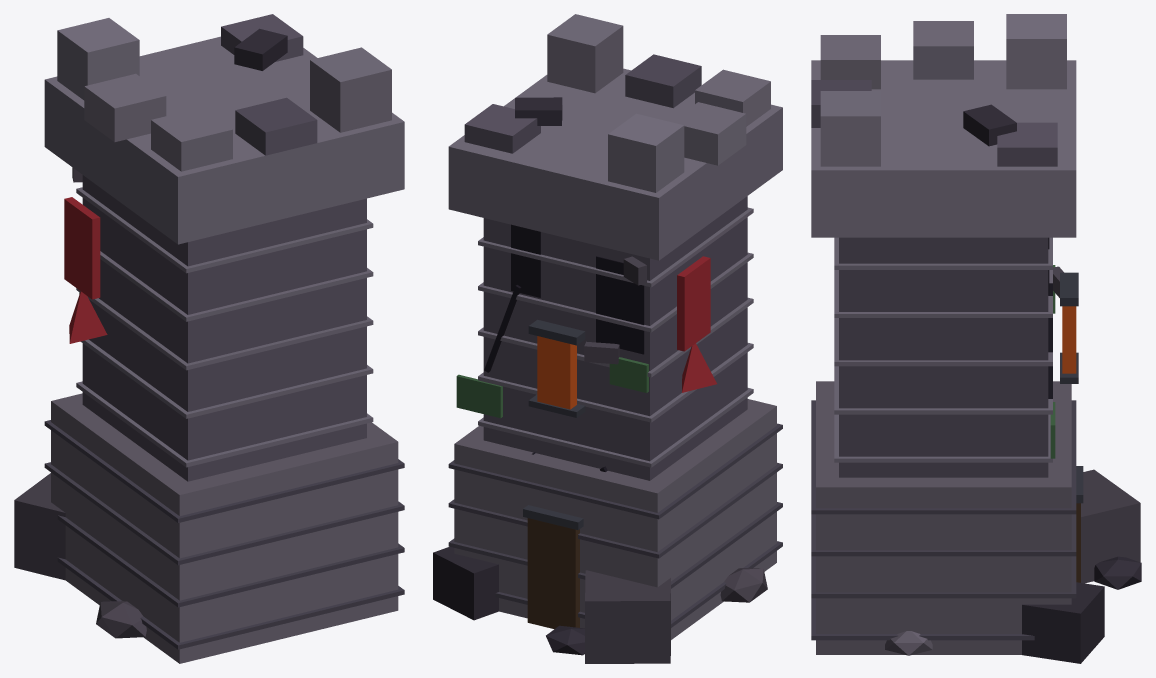
The model's file is Decor_DragonLair_Tower.fbx.
3 renders of one model, left to right at view 1: azimuth 30°, elevation 25°; view 2: azimuth 150°, elevation 25°; view 3: azimuth 270°, elevation 25°, orthographic. The views are drawn at different scales.
Parts seen in each view (by area): view 1: Tower_Body; view 2: Tower_Body; view 3: Tower_Body.
Part boxes in pixels (left/top/right/bottom): Tower_Body: left=14, top=14, right=404, bottom=663; Tower_Body: left=433, top=14, right=782, bottom=663; Tower_Body: left=811, top=14, right=1141, bottom=663.
Bounding box in the file's own units: 13.2 × 25.6 × 14.17.
